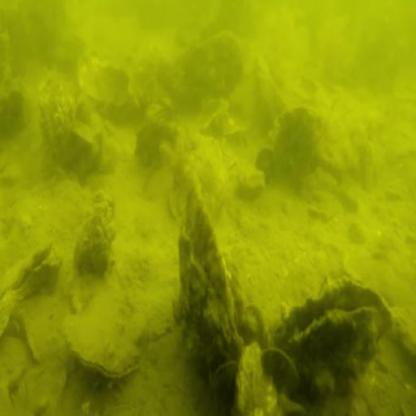3: (275, 283, 394, 384)
Oyster- Indeterminate: (0, 242, 66, 338)
Oyster-Closed: (178, 180, 237, 361), (65, 302, 143, 376), (169, 134, 223, 220), (229, 338, 286, 416), (16, 294, 72, 369), (192, 32, 247, 88), (275, 103, 321, 164), (38, 75, 73, 155), (74, 214, 111, 277), (135, 122, 180, 169)
